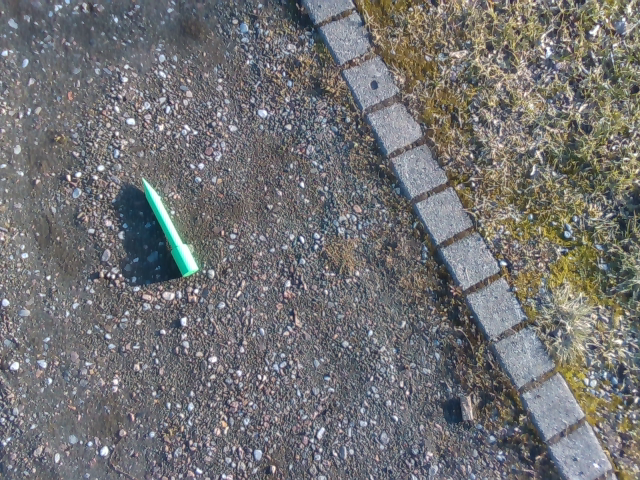Probe: (135, 173, 201, 282)
